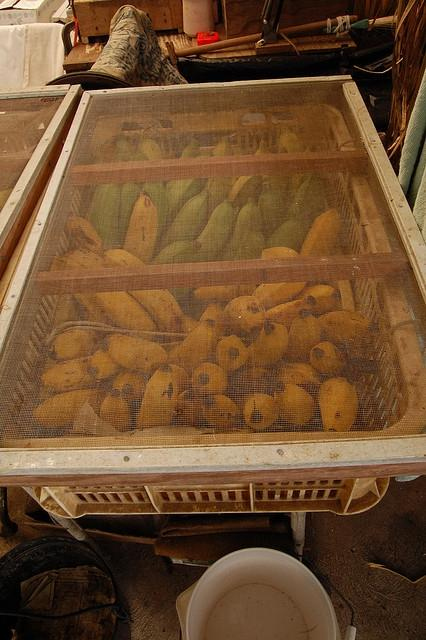banana: (61, 250, 160, 332), (102, 248, 190, 334), (51, 256, 121, 330), (150, 190, 212, 264), (32, 388, 112, 428), (166, 152, 213, 218), (168, 318, 217, 380), (216, 198, 262, 261), (101, 333, 169, 375), (134, 364, 177, 428), (122, 192, 158, 265), (194, 199, 235, 260), (86, 184, 121, 250), (318, 377, 358, 432), (284, 308, 322, 365), (40, 356, 101, 390), (316, 310, 380, 342), (264, 294, 316, 333), (246, 322, 290, 367), (286, 174, 325, 224), (64, 215, 107, 259), (274, 382, 317, 426), (300, 209, 340, 256), (229, 393, 280, 429), (223, 296, 266, 338), (46, 330, 101, 362), (258, 180, 286, 242), (117, 182, 142, 250), (252, 282, 307, 312), (142, 180, 169, 240), (223, 368, 274, 399), (272, 362, 320, 394), (100, 389, 132, 432), (203, 394, 241, 430), (234, 218, 266, 260), (113, 368, 148, 406), (266, 221, 306, 254), (191, 362, 228, 397), (310, 342, 346, 376), (151, 240, 202, 264), (216, 334, 248, 372), (206, 177, 236, 217), (86, 348, 124, 379), (193, 284, 258, 302), (228, 176, 263, 208), (177, 389, 204, 426), (263, 173, 292, 202), (290, 284, 336, 302), (198, 297, 224, 326), (313, 290, 341, 314), (278, 128, 304, 152), (110, 134, 132, 162), (138, 138, 163, 160), (260, 246, 300, 258), (211, 136, 233, 157), (180, 138, 201, 158), (126, 147, 150, 162), (254, 140, 272, 154)
